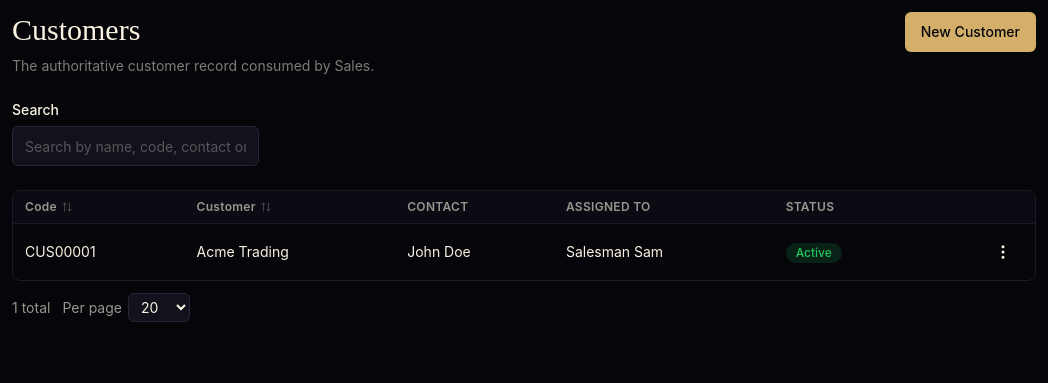
Scenario: CustomersPage › a manager sees Assign but not Edit/Deactivate
Expected: the text "Acme Trading" is shown, [185,224,395,280]
What coordinates should you click on to do the following:
click the button named "Actions for"
I would click on:
 (1003, 252)
Its box is [983,232,1023,272].
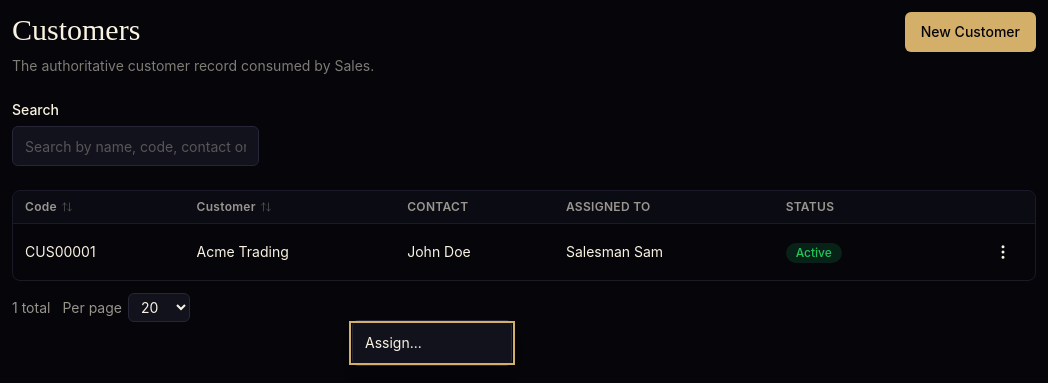
Expected: the menu item "Assign..." is shown, [353,325,511,361]
